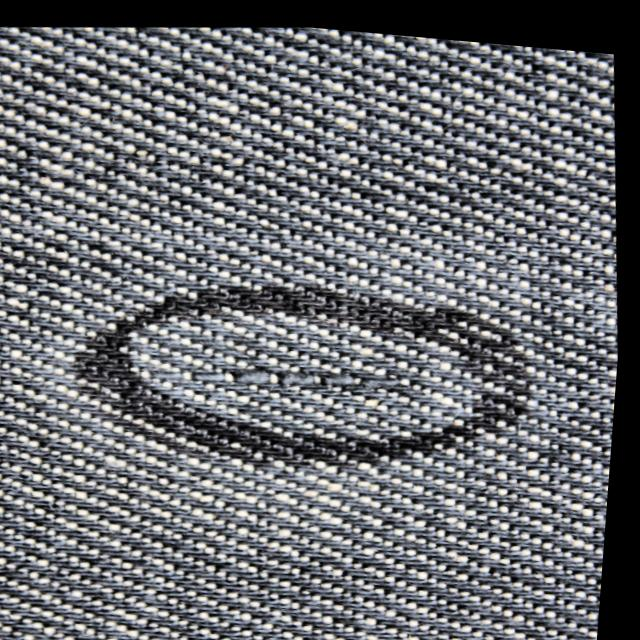Hole: (149, 365, 405, 381)
